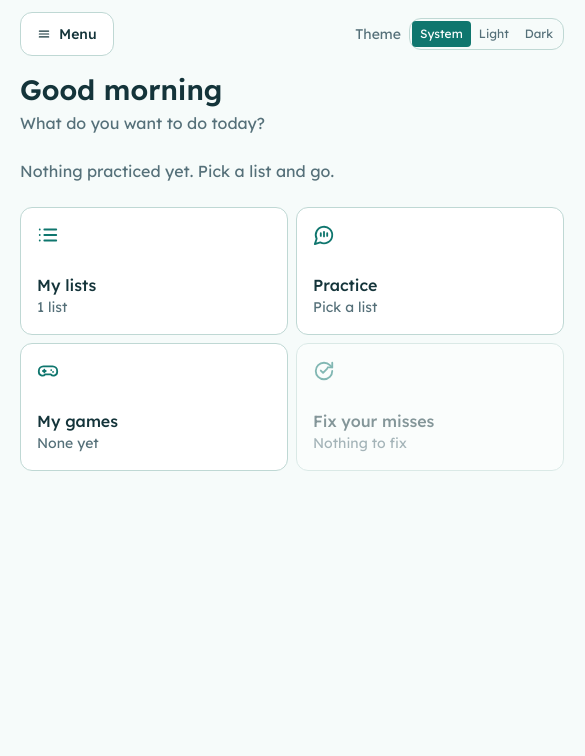
Test: a full practice run › keeps list order when List order is chosen
Click the button "Menu" at (67, 34), box [20,12,114,56]
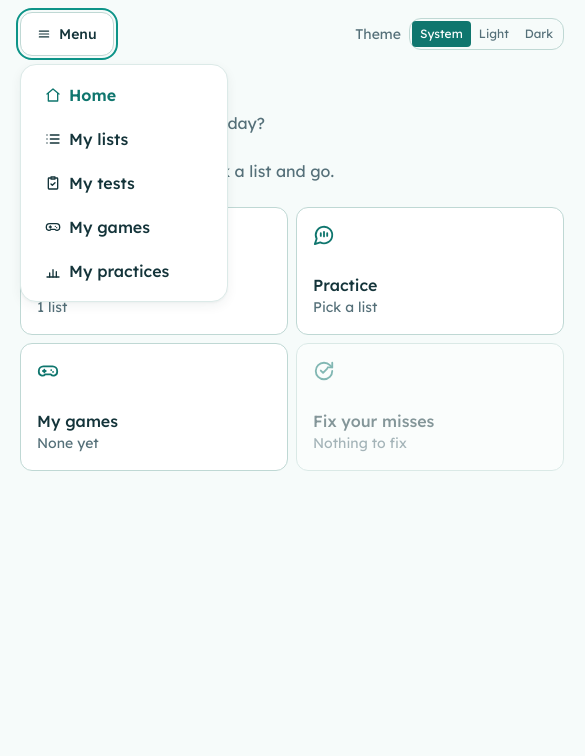
Click the menu item "My lists" at (124, 139), box [29,117,219,161]
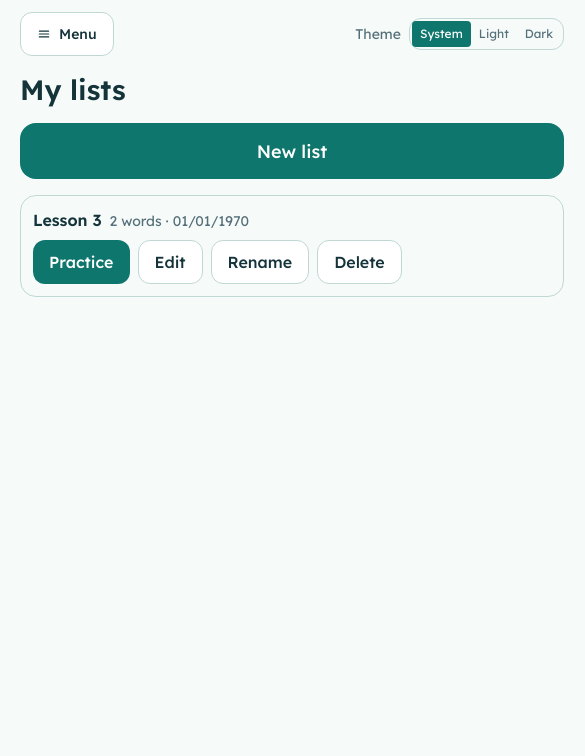
Click the button "Practice" at (81, 262), box [33,240,130,284]
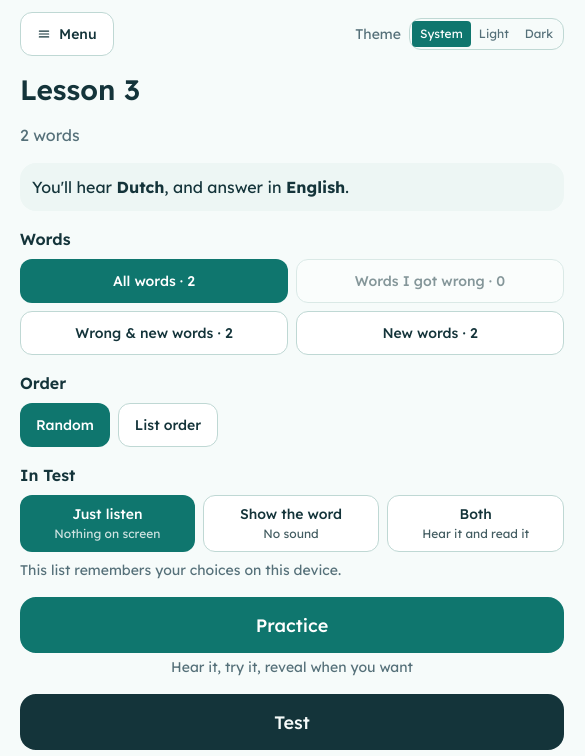
Click the button "List order" at (168, 425), box [118,403,218,447]
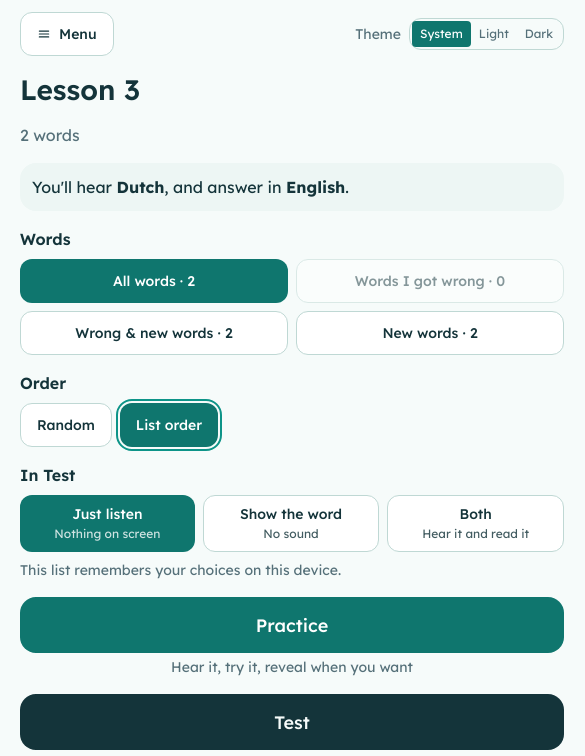
Click the button "Practice" at (292, 625), box [20,597,564,653]
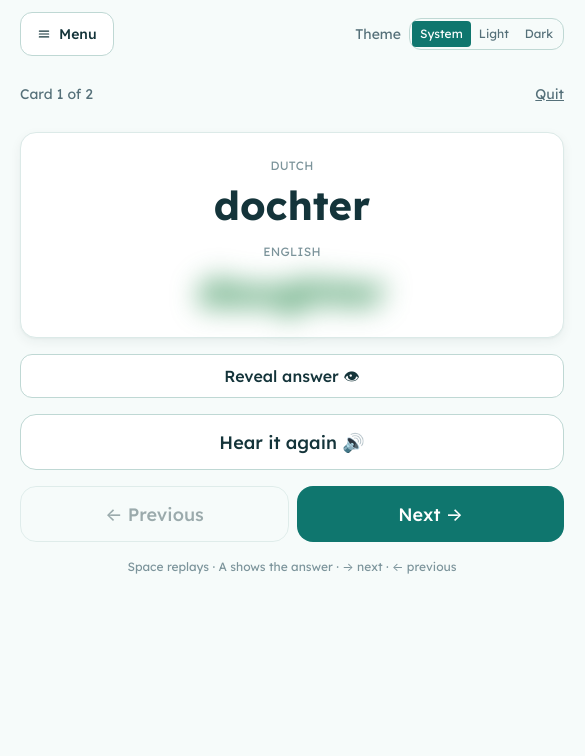
Check: the text "dochter" is shown, box [214,180,370,230]
Click the button "Next →" at (430, 514), box [297,486,564,542]
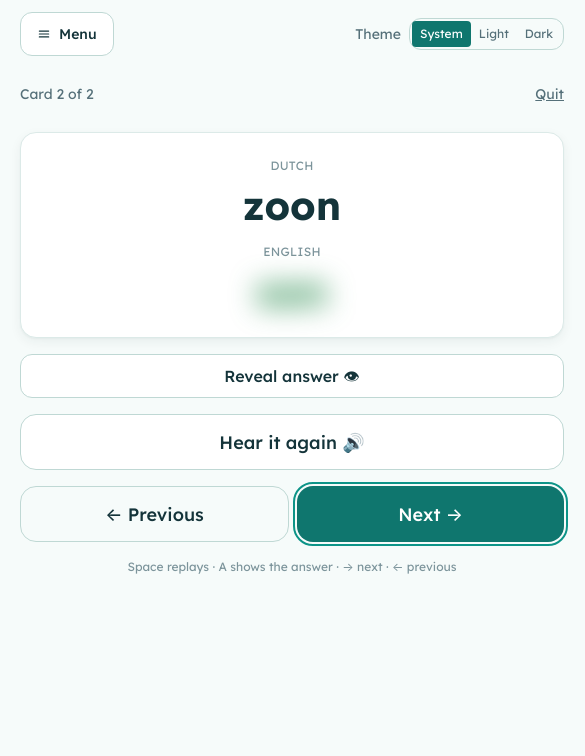
Check: the text "zoon" is shown, box [243,180,341,230]
